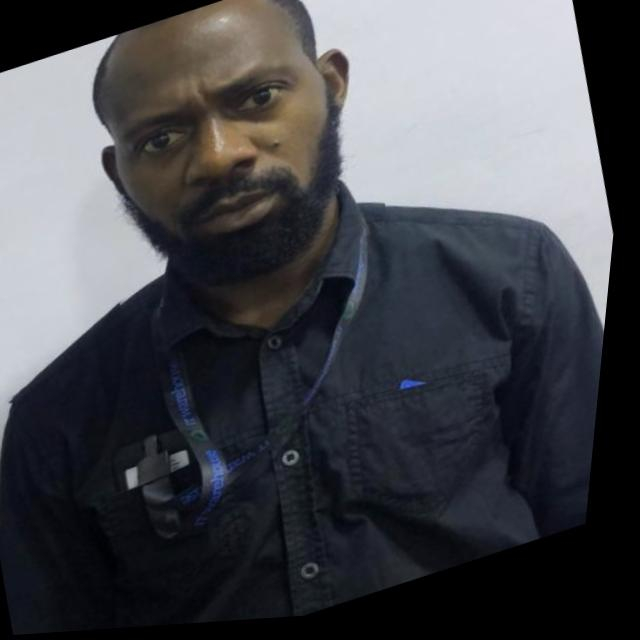sad: (51, 0, 413, 325)
